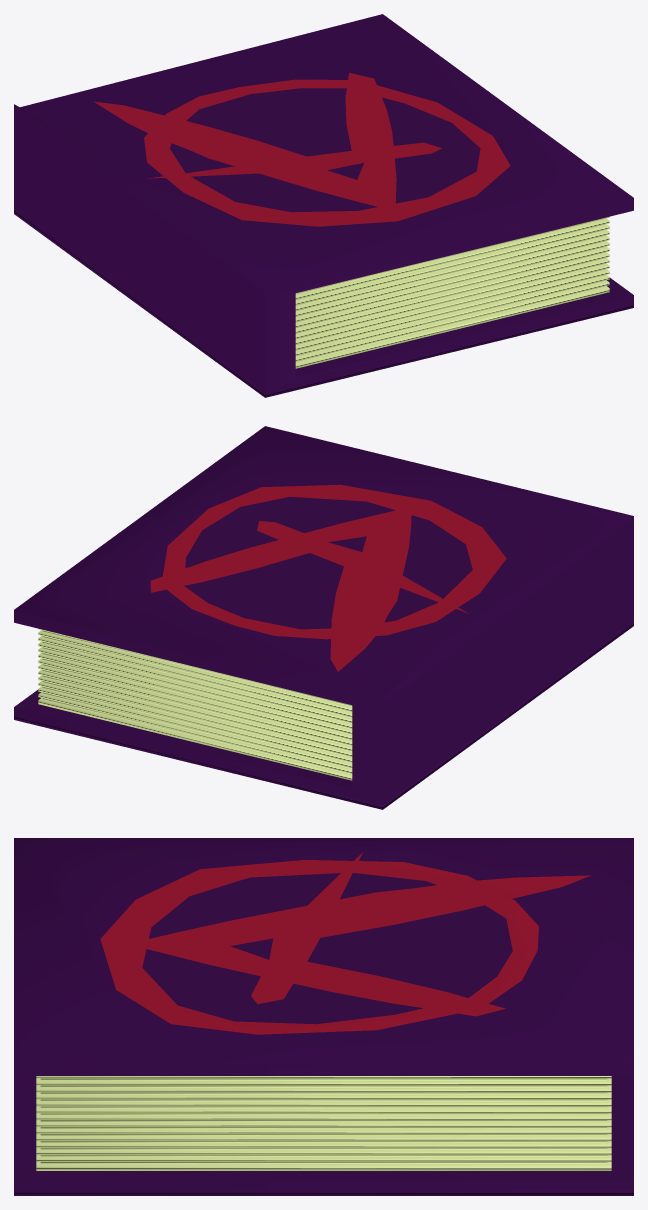
The model's file is grimoire.glb.
3 views of the same model, one above another, from view 1: azimuth 30°, elevation 25°; view 2: azimuth 150°, elevation 25°; view 3: azimuth 270°, elevation 25° (orthographic). The views are drawn at different scales.
Visible parts, largest first — view 1: Cube; view 2: Cube; view 3: Cube.
Part boxes in pixels (box(x1,y1,x2,y2)): Cube: box(14, 14, 633, 397); Cube: box(14, 426, 633, 809); Cube: box(14, 838, 633, 1195).
Size of the model in its own units: 0.4929 by 0.1405 by 0.5814.
